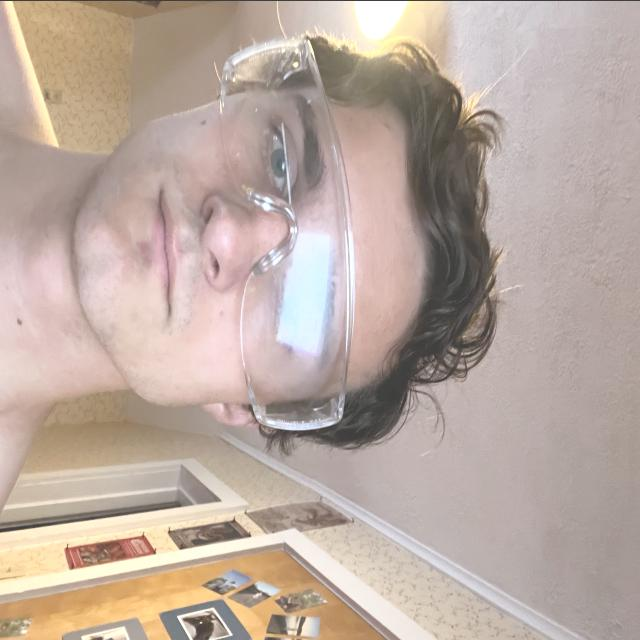Safety Glasses: (217, 22, 356, 454)
